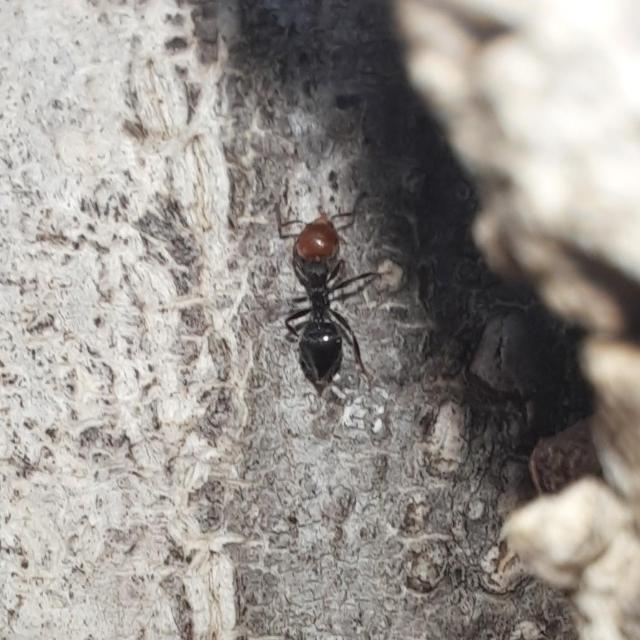Crematogaster: (252, 205, 368, 392)
